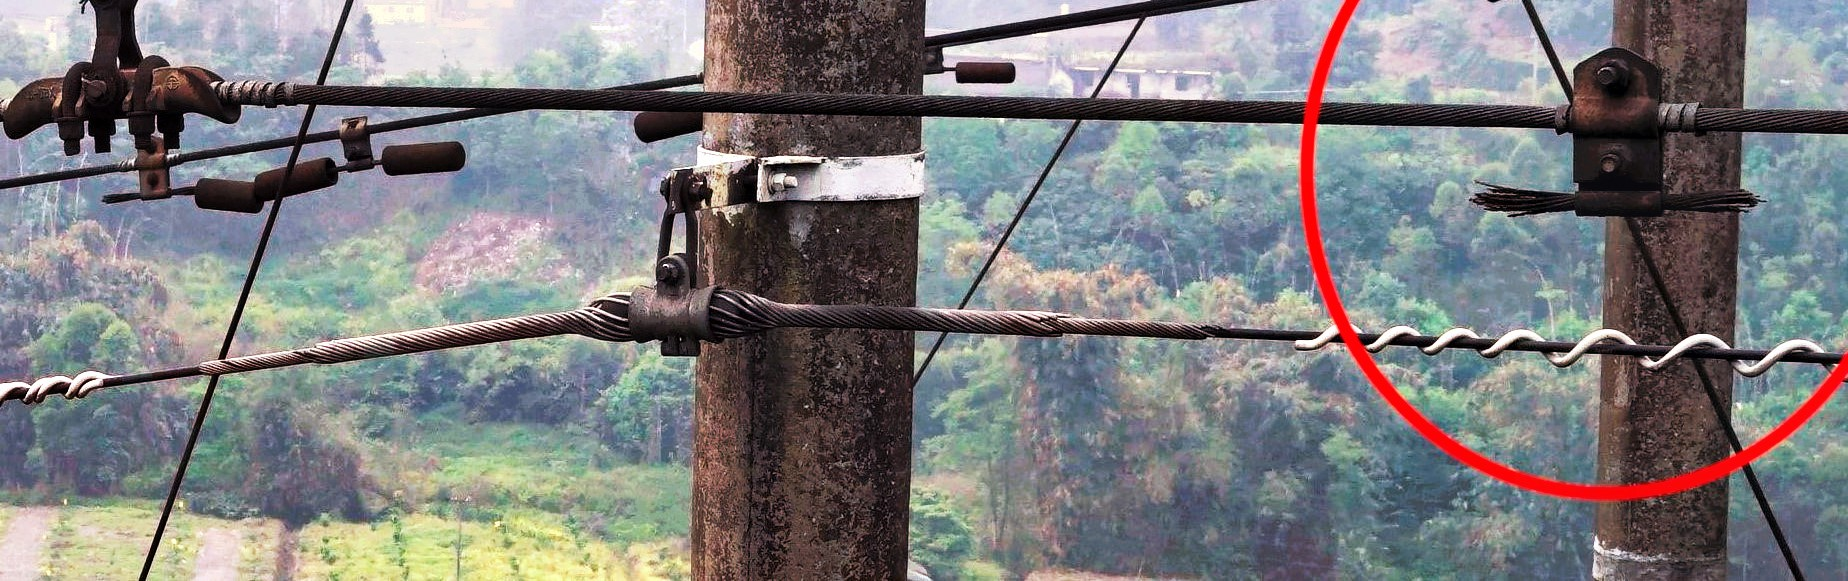Damage of shockproof hammer: (1457, 28, 1773, 245)
